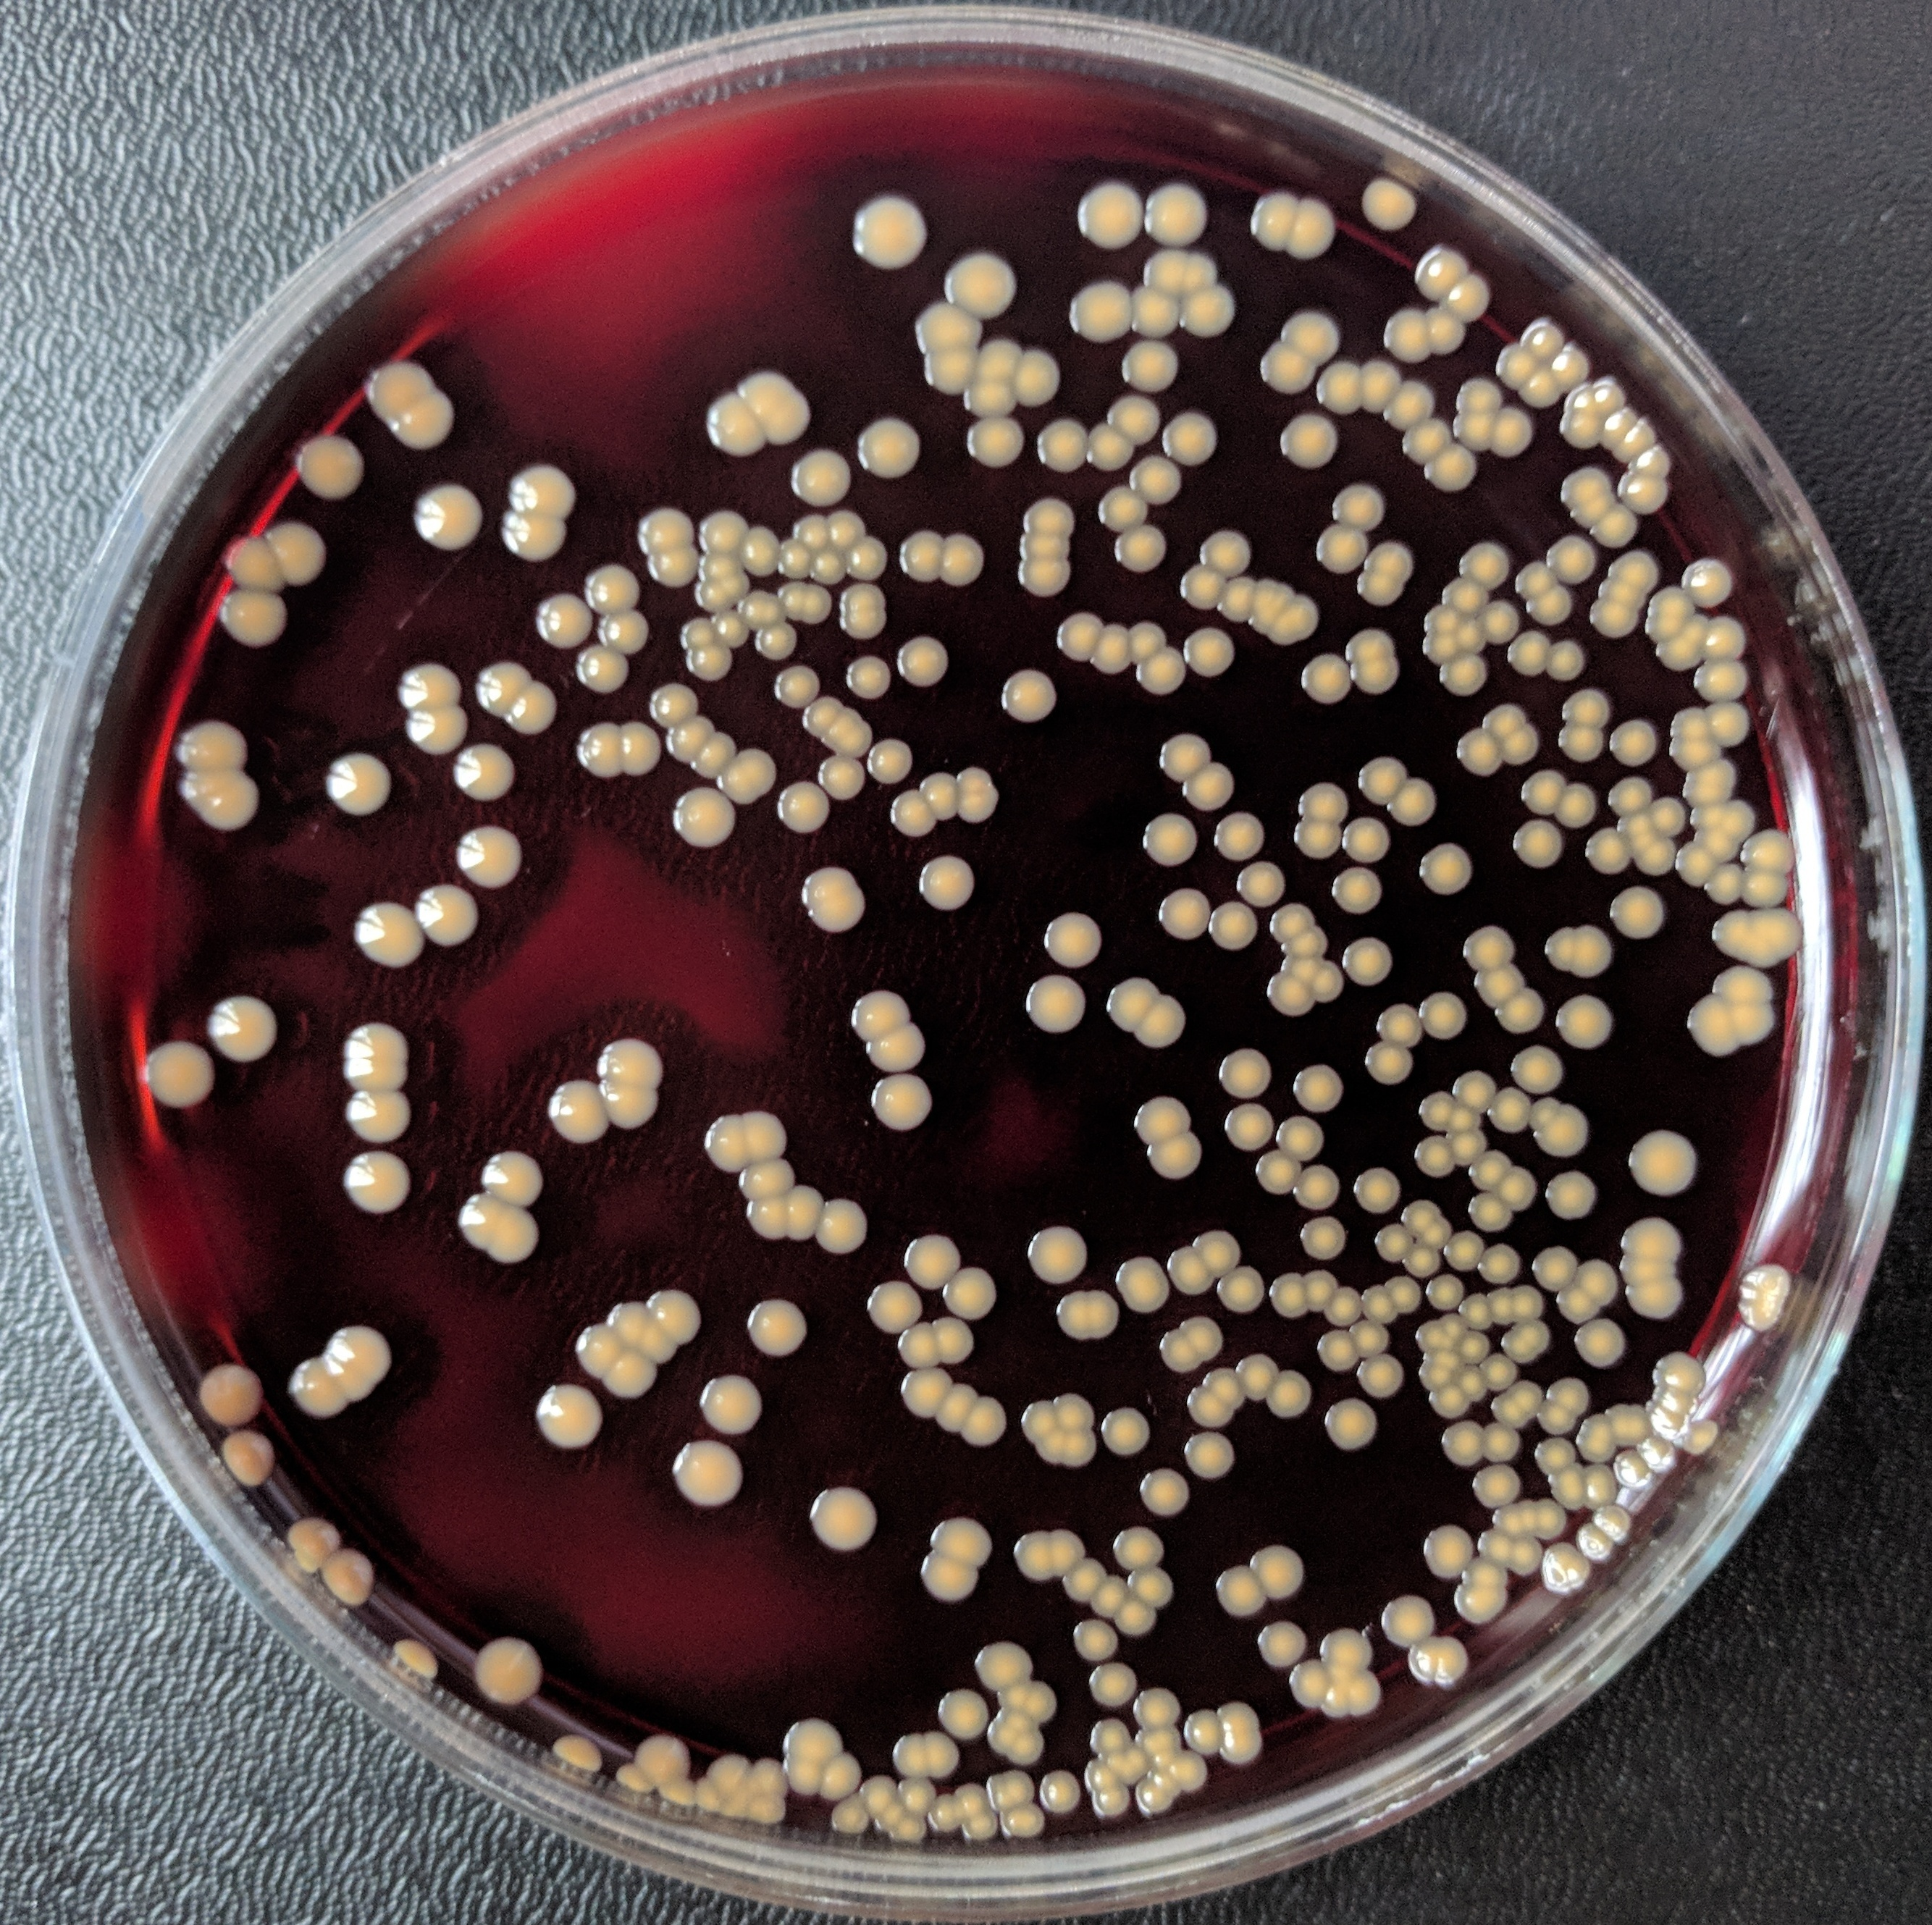sp21: (850, 190, 929, 273), (940, 245, 1022, 321), (1072, 173, 1146, 256), (471, 1629, 554, 1703), (141, 1037, 220, 1111), (672, 1435, 751, 1509), (289, 432, 365, 508), (1625, 1126, 1701, 1200), (532, 1382, 605, 1460), (206, 989, 279, 1065), (340, 1148, 420, 1216), (321, 751, 395, 823), (411, 478, 479, 554), (807, 1483, 878, 1555), (853, 412, 925, 481), (698, 390, 767, 462), (349, 903, 423, 970), (340, 1088, 425, 1146), (1065, 275, 1133, 346), (263, 518, 333, 587), (215, 587, 289, 652), (1144, 178, 1213, 247), (1735, 1259, 1791, 1342), (1035, 908, 1107, 971), (455, 823, 527, 887), (541, 1074, 605, 1146), (333, 1017, 425, 1067), (672, 784, 739, 851), (1022, 1222, 1089, 1289), (592, 1031, 672, 1088), (215, 531, 289, 591), (864, 1074, 940, 1132), (196, 1363, 264, 1426), (361, 358, 434, 418), (698, 1373, 770, 1433), (1024, 973, 1089, 1038), (1271, 412, 1343, 471), (910, 298, 985, 353), (481, 1148, 550, 1208), (1555, 991, 1625, 1049), (504, 460, 575, 518), (788, 448, 851, 511), (390, 388, 455, 450), (418, 883, 478, 950), (760, 388, 816, 458), (913, 857, 984, 913), (199, 772, 261, 836), (323, 1550, 386, 1611), (746, 1297, 811, 1357), (219, 1426, 277, 1493), (287, 1357, 346, 1424), (918, 1551, 989, 1606), (599, 1081, 661, 1142), (455, 746, 518, 806), (901, 1229, 961, 1292), (1257, 340, 1322, 398), (1683, 996, 1742, 1061), (1248, 1541, 1306, 1606), (1278, 305, 1347, 360), (324, 1322, 400, 1371), (862, 1276, 922, 1338), (173, 719, 245, 770), (1114, 337, 1179, 393), (1128, 1093, 1197, 1146), (1403, 1636, 1474, 1687), (472, 658, 532, 717), (564, 1317, 624, 1377), (1359, 175, 1421, 233), (1408, 242, 1470, 300), (532, 589, 594, 647), (1324, 483, 1396, 532), (1250, 187, 1299, 259), (501, 511, 566, 566), (894, 1371, 959, 1426), (927, 1512, 994, 1565), (1001, 668, 1061, 726), (1162, 405, 1220, 465), (897, 635, 954, 696), (776, 777, 832, 839), (1324, 1400, 1386, 1456), (1014, 344, 1066, 409), (398, 712, 472, 758), (1680, 554, 1738, 612), (1211, 1560, 1269, 1618), (1181, 284, 1237, 344), (1417, 837, 1474, 897), (1142, 809, 1202, 866), (573, 640, 633, 696), (1114, 1253, 1170, 1313), (1542, 534, 1606, 587), (1451, 1576, 1514, 1629), (730, 363, 797, 412), (844, 989, 911, 1038), (490, 1200, 539, 1267), (1419, 441, 1477, 497), (1535, 1100, 1594, 1156), (1382, 307, 1437, 367), (1133, 992, 1188, 1052), (1419, 1521, 1474, 1581), (395, 661, 464, 709), (1037, 418, 1089, 479), (1606, 888, 1668, 941), (1417, 989, 1470, 1051), (629, 502, 695, 552), (1294, 192, 1336, 268), (920, 347, 978, 402), (1507, 820, 1565, 874), (1103, 978, 1162, 1033), (1509, 1042, 1567, 1096), (1542, 1167, 1601, 1222), (506, 679, 561, 737), (1296, 647, 1349, 707), (573, 723, 626, 783), (1378, 1592, 1438, 1645), (1491, 404, 1541, 467), (453, 1188, 502, 1252), (968, 1639, 1031, 1689), (1054, 605, 1102, 670), (321, 1354, 377, 1408), (652, 1283, 709, 1338), (1098, 1403, 1153, 1460), (633, 1731, 689, 1786), (941, 527, 987, 594), (1109, 527, 1169, 578), (1142, 1133, 1204, 1183), (899, 529, 947, 592), (702, 1111, 747, 1176), (814, 1199, 869, 1253), (1382, 374, 1435, 430), (1102, 393, 1158, 446), (1215, 1045, 1271, 1098), (1294, 1058, 1347, 1114), (941, 1266, 998, 1319), (1539, 1542, 1592, 1599), (594, 605, 652, 656), (962, 418, 1022, 467), (1088, 418, 1137, 478), (1125, 458, 1186, 506), (1437, 273, 1498, 321), (1234, 1349, 1282, 1410), (1156, 887, 1209, 941), (1260, 970, 1313, 1024), (1622, 1215, 1687, 1259), (1712, 964, 1786, 1003), (1733, 1000, 1782, 1058), (858, 1029, 929, 1070), (779, 1713, 839, 1761), (802, 896, 869, 938), (1315, 360, 1361, 421), (1692, 656, 1754, 702), (1179, 1430, 1241, 1475), (1465, 1467, 1527, 1512), (1401, 418, 1454, 471), (1754, 911, 1807, 964), (1156, 730, 1209, 783), (1343, 934, 1396, 987), (864, 733, 917, 786), (605, 1352, 658, 1405), (739, 1160, 802, 1204), (1308, 1326, 1361, 1379), (1179, 762, 1234, 813), (1137, 1468, 1192, 1520), (1165, 1243, 1216, 1297), (1435, 1417, 1486, 1472), (1490, 1163, 1539, 1220), (1220, 1102, 1276, 1151), (1296, 1215, 1352, 1264), (1359, 356, 1401, 421), (620, 719, 663, 784), (964, 337, 1024, 383), (1135, 280, 1179, 342), (1606, 719, 1657, 772), (1451, 728, 1502, 781), (587, 564, 640, 615), (742, 1109, 795, 1160), (1315, 525, 1370, 575), (1588, 594, 1638, 649), (1213, 809, 1267, 858), (1089, 619, 1132, 682), (1209, 899, 1257, 955), (1112, 1521, 1169, 1569), (1574, 1319, 1631, 1366), (1583, 823, 1629, 881), (1458, 924, 1516, 970), (169, 763, 238, 802), (957, 379, 1022, 420), (1010, 1528, 1054, 1588), (1703, 696, 1754, 747), (1703, 911, 1754, 962), (1341, 814, 1393, 866), (1701, 615, 1754, 665), (1516, 767, 1569, 816), (1252, 1148, 1301, 1200), (799, 864, 860, 906), (700, 504, 749, 557), (689, 732, 739, 784), (742, 1195, 795, 1245), (1186, 626, 1234, 680), (1197, 527, 1252, 575), (1361, 1042, 1416, 1089), (1319, 1624, 1373, 1671), (816, 1749, 864, 1803), (548, 1726, 603, 1773), (1264, 1368, 1312, 1423), (1232, 858, 1289, 904), (1329, 869, 1386, 915), (1735, 830, 1798, 871), (605, 1292, 649, 1350), (966, 1391, 1010, 1449), (790, 1183, 823, 1259), (1015, 557, 1075, 599), (1375, 1000, 1426, 1049), (934, 1382, 984, 1433), (1216, 1264, 1266, 1315), (1356, 754, 1408, 802), (767, 665, 820, 712), (1188, 1229, 1241, 1276), (1181, 1384, 1234, 1431), (1428, 300, 1468, 361), (1652, 1350, 1708, 1394), (1470, 968, 1528, 1010), (1137, 650, 1185, 702), (1504, 629, 1551, 680), (1296, 1158, 1343, 1209), (844, 652, 895, 700), (1530, 1241, 1581, 1289), (1359, 541, 1419, 582), (1271, 1116, 1331, 1156), (1518, 312, 1564, 365), (1618, 469, 1671, 515), (1290, 818, 1343, 864), (887, 790, 940, 836), (1255, 1620, 1308, 1666), (1086, 1661, 1139, 1706), (1250, 578, 1294, 633), (1490, 991, 1544, 1035), (287, 1516, 342, 1560), (1542, 1458, 1586, 1512), (338, 1058, 414, 1089), (1622, 1282, 1683, 1320), (677, 645, 733, 687), (1287, 1661, 1329, 1717), (1460, 539, 1509, 587), (1352, 1167, 1401, 1215), (844, 534, 892, 583), (1059, 1558, 1107, 1608), (1125, 1562, 1172, 1611), (1155, 1326, 1204, 1373), (1488, 1084, 1534, 1135), (1137, 1682, 1183, 1733), (1096, 487, 1149, 531), (705, 1750, 749, 1803), (1352, 1354, 1405, 1398), (1576, 1407, 1615, 1467), (1294, 777, 1349, 820), (1461, 1148, 1516, 1190), (647, 682, 702, 725), (1606, 1398, 1648, 1453), (1557, 686, 1613, 726), (917, 769, 957, 825), (931, 1317, 977, 1366), (393, 1632, 442, 1678), (938, 1689, 984, 1738), (1021, 495, 1079, 534), (1437, 652, 1488, 696), (665, 716, 716, 760), (1616, 412, 1659, 465), (1354, 568, 1408, 608), (1574, 922, 1615, 977), (1051, 1290, 1091, 1345), (1668, 758, 1745, 786), (1576, 1255, 1615, 1312), (1178, 564, 1223, 612), (1391, 779, 1438, 825), (1202, 1368, 1250, 1414), (740, 747, 784, 797), (1068, 1618, 1119, 1661), (1602, 550, 1661, 587), (1451, 409, 1491, 462), (1592, 575, 1645, 615), (1350, 661, 1405, 700), (1461, 1193, 1516, 1232), (1558, 721, 1606, 765), (1419, 1269, 1467, 1313), (1557, 465, 1613, 502), (1181, 1710, 1223, 1759), (1676, 839, 1717, 890), (1438, 576, 1491, 615), (994, 1802, 1047, 1840), (1179, 1317, 1225, 1361), (1678, 1419, 1726, 1461), (1088, 1282, 1121, 1342), (1597, 402, 1636, 453), (1740, 871, 1791, 910), (1049, 1528, 1088, 1579), (1269, 1275, 1308, 1326), (1451, 375, 1504, 412), (820, 756, 864, 800), (717, 767, 762, 811), (1086, 1717, 1132, 1759), (1444, 1229, 1490, 1271), (647, 548, 695, 589), (1086, 1572, 1133, 1613), (1474, 1241, 1521, 1282), (1588, 509, 1643, 545), (1218, 575, 1257, 624), (1269, 903, 1319, 941), (895, 1320, 934, 1370), (1132, 615, 1169, 666), (1604, 777, 1655, 814), (1144, 250, 1186, 294), (1624, 439, 1676, 474), (1498, 725, 1542, 767), (1343, 1675, 1386, 1719), (823, 1791, 867, 1833), (1416, 1084, 1456, 1130), (1412, 1135, 1453, 1181), (1668, 739, 1729, 769), (1216, 1729, 1264, 1768), (1172, 1750, 1211, 1798), (1371, 1220, 1410, 1267), (1393, 1195, 1440, 1234), (1276, 924, 1331, 957), (894, 1726, 927, 1780), (1558, 777, 1595, 827), (1482, 599, 1520, 649), (1512, 562, 1564, 598), (1495, 340, 1535, 384), (1701, 862, 1742, 906), (739, 589, 783, 629), (1112, 1599, 1156, 1639), (922, 1735, 962, 1779), (1285, 596, 1324, 642), (1553, 340, 1592, 386), (1555, 411, 1601, 450), (756, 624, 802, 663), (1574, 1521, 1613, 1567), (1461, 1550, 1514, 1583), (1643, 1386, 1696, 1419), (1019, 1396, 1056, 1444), (1347, 1320, 1394, 1357), (1542, 924, 1578, 973), (1423, 1384, 1472, 1419), (1449, 1070, 1493, 1109), (1137, 1772, 1176, 1816), (1474, 1354, 1518, 1393), (1481, 1423, 1520, 1467), (1653, 638, 1699, 675), (1481, 702, 1527, 739), (1042, 1766, 1079, 1812), (749, 518, 779, 575), (1456, 1125, 1490, 1174), (987, 1770, 1037, 1803), (827, 506, 867, 546), (1634, 844, 1676, 883), (1491, 1391, 1534, 1430), (1590, 1504, 1632, 1542), (1518, 374, 1562, 411), (957, 790, 1001, 827), (786, 1758, 823, 1802), (1546, 636, 1581, 682), (1024, 1682, 1058, 1729), (1479, 1523, 1512, 1571), (1181, 254, 1222, 293), (1527, 587, 1567, 626), (640, 1327, 679, 1368), (839, 580, 888, 612), (747, 1795, 790, 1832), (1553, 1287, 1595, 1324), (1532, 1440, 1581, 1472), (1652, 797, 1687, 841), (1313, 959, 1349, 1003), (1061, 1428, 1096, 1472), (1583, 1463, 1618, 1507), (820, 705, 866, 739), (1507, 1539, 1541, 1585), (1345, 629, 1393, 661), (929, 1793, 961, 1840), (1541, 1377, 1588, 1408), (1054, 1391, 1095, 1428), (1304, 1269, 1341, 1310), (1615, 1259, 1680, 1282), (1592, 372, 1627, 414), (1361, 1282, 1396, 1324), (1014, 532, 1074, 557), (814, 546, 848, 591), (1326, 1282, 1359, 1326), (830, 725, 876, 756), (1690, 832, 1742, 860), (1687, 834, 1738, 862), (1527, 1095, 1564, 1133), (1141, 1731, 1179, 1768), (1091, 1786, 1128, 1825), (751, 1758, 790, 1795), (1008, 1726, 1044, 1766), (1461, 1290, 1491, 1338), (779, 541, 813, 583), (1534, 1498, 1567, 1541), (1421, 603, 1465, 635), (1648, 585, 1698, 613), (839, 612, 888, 640), (679, 615, 717, 650), (857, 1773, 892, 1812), (962, 1807, 998, 1846), (1498, 1331, 1534, 1370), (700, 552, 747, 580), (1611, 1454, 1653, 1486), (1266, 608, 1296, 652), (1567, 504, 1620, 529), (1384, 1278, 1421, 1313), (1638, 1437, 1675, 1472), (1669, 705, 1708, 739), (689, 585, 732, 615), (802, 580, 829, 628), (1274, 954, 1319, 982), (1541, 1401, 1576, 1437), (1511, 1283, 1544, 1320), (1724, 802, 1761, 836), (714, 612, 747, 649), (1319, 1682, 1343, 1731), (987, 1715, 1014, 1761), (1645, 613, 1687, 642), (1516, 1320, 1551, 1354), (779, 580, 807, 621), (1403, 1248, 1444, 1276), (1414, 1366, 1460, 1391), (954, 762, 992, 790), (1416, 1218, 1454, 1246), (1678, 784, 1740, 802), (788, 513, 820, 546), (892, 1816, 925, 1847), (1511, 1379, 1541, 1414), (1088, 1761, 1125, 1789), (1454, 1331, 1490, 1359), (992, 1683, 1029, 1710), (1488, 1287, 1511, 1329), (1220, 1701, 1262, 1724), (899, 1784, 929, 1816), (1419, 635, 1453, 663), (954, 1782, 982, 1816), (1421, 1350, 1465, 1371), (804, 700, 834, 730), (1564, 386, 1594, 416), (1035, 1435, 1061, 1468), (1412, 1319, 1445, 1345), (1445, 1107, 1482, 1130), (1690, 806, 1726, 829), (1456, 621, 1482, 649), (1440, 1312, 1465, 1342)
